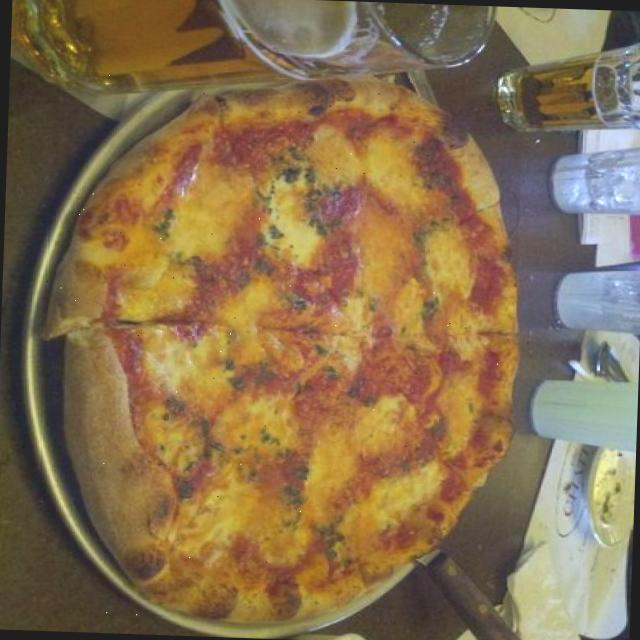pizza: (43, 80, 515, 621)
